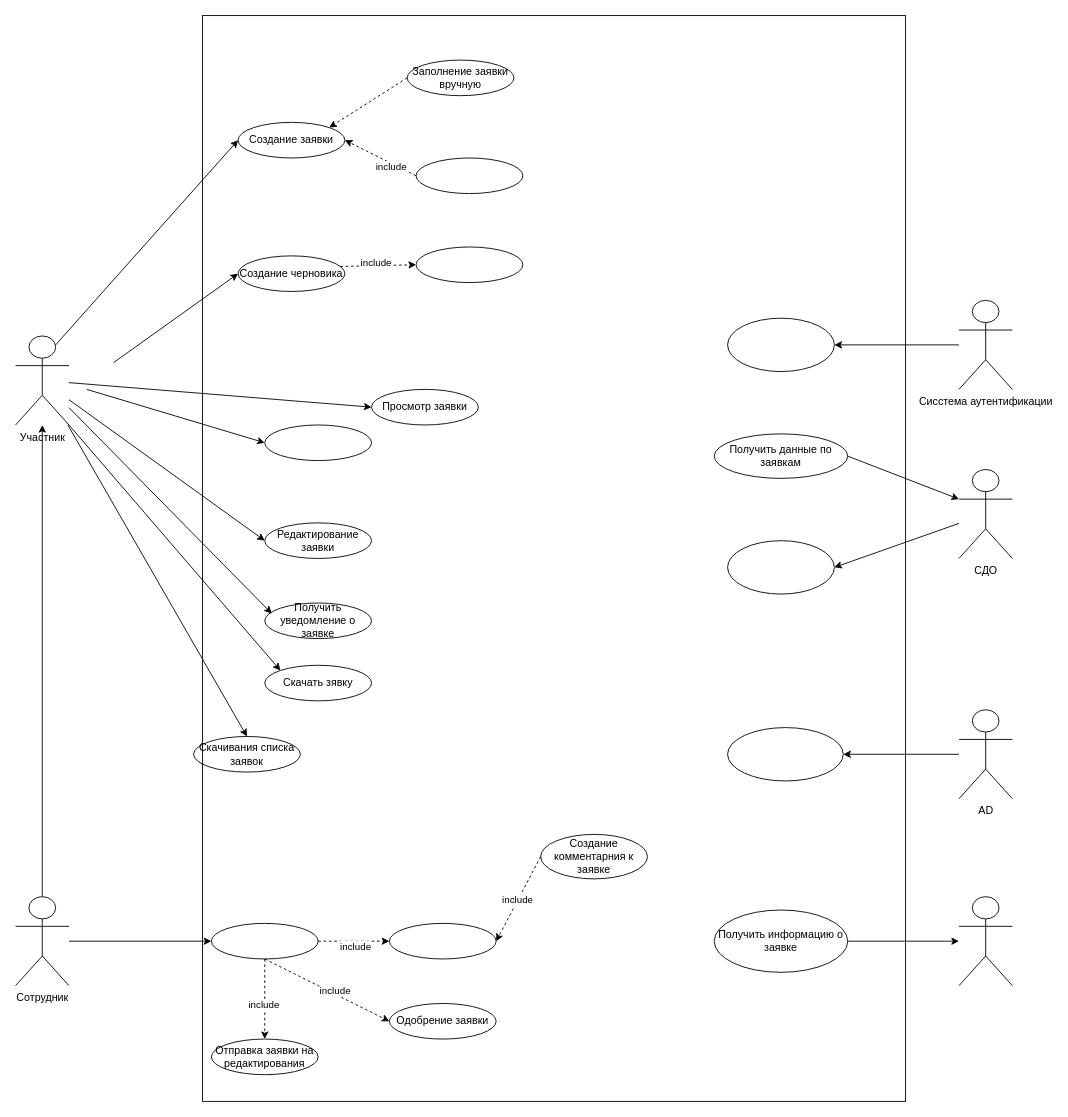
Image size: 1068x1117. Some labels were removed from this diagram. Here are the shapes that lost their labels. From the top down, the centre of each, then its label:
At (x=469, y=175): "Загрузка списка участников".
At (x=469, y=264): "Удаление черновка".
At (x=780, y=344): "Предоставить авторизационные данные".
At (x=318, y=442): "Просмотр списка заявок".
At (x=780, y=567): "Предоставить данные о списке курсов".
At (x=785, y=754): "Предоставить данные об участника".
At (x=264, y=940): "Согласование заявки".
At (x=442, y=940): "Отклонние заявки".
At (x=985, y=941): "Почтовая служба".
